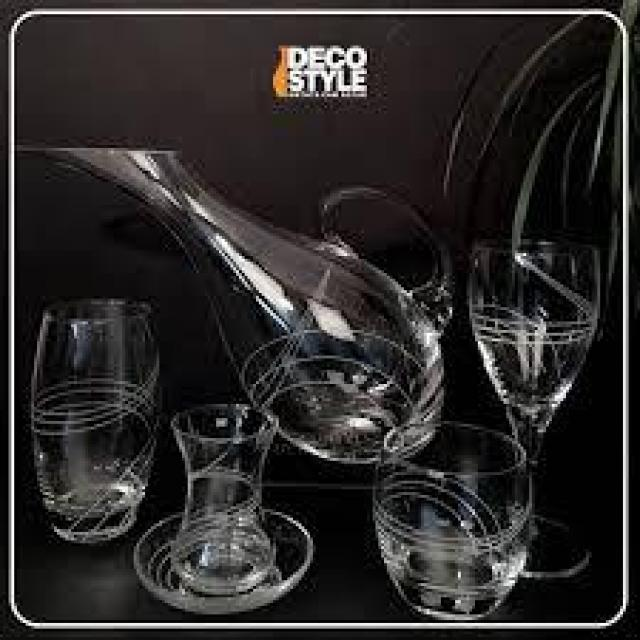non-organic waste: (16, 148, 457, 466), (133, 401, 314, 620), (32, 299, 160, 543), (377, 427, 533, 620)
